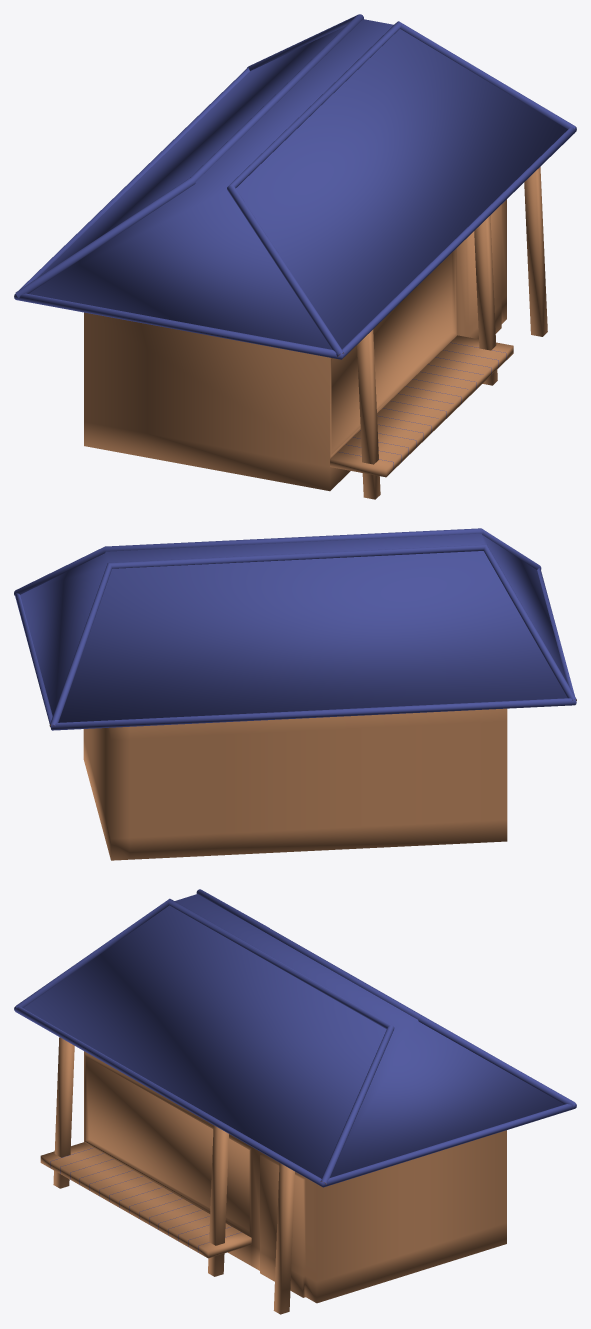
Rendered from 058_古民家2007.glb.
3 views of the same model, one above another, from view 1: azimuth 30°, elevation 25°; view 2: azimuth 150°, elevation 25°; view 3: azimuth 270°, elevation 25° (orthographic). The views are drawn at different scales.
Visible parts, largest first — view 1: 立方体096_3, 立方体096, 立方体096_1, 立方体096_2, 立方体096_4; view 2: 立方体096_3, 立方体096; view 3: 立方体096_3, 立方体096, 立方体096_1, 立方体096_2, 立方体096_4.
Boxes of the visible parts, x1=… form: 立方体096_3: x1=14, y1=14, x2=576, y2=359; 立方体096: x1=84, y1=199, x2=513, y2=491; 立方体096_1: x1=331, y1=204, x2=501, y2=448; 立方体096_2: x1=357, y1=167, x2=547, y2=499; 立方体096_4: x1=339, y1=342, x2=506, y2=469; 立方体096_3: x1=14, y1=528, x2=576, y2=730; 立方体096: x1=49, y1=699, x2=576, y2=860; 立方体096_3: x1=14, y1=889, x2=576, y2=1187; 立方体096: x1=40, y1=1051, x2=506, y2=1303; 立方体096_1: x1=89, y1=1058, x2=305, y2=1297; 立方体096_2: x1=53, y1=1037, x2=294, y2=1314; 立方体096_4: x1=50, y1=1147, x2=241, y2=1252.
Bounding box in the file's own units: 5.19 × 2.38 × 4.82.
